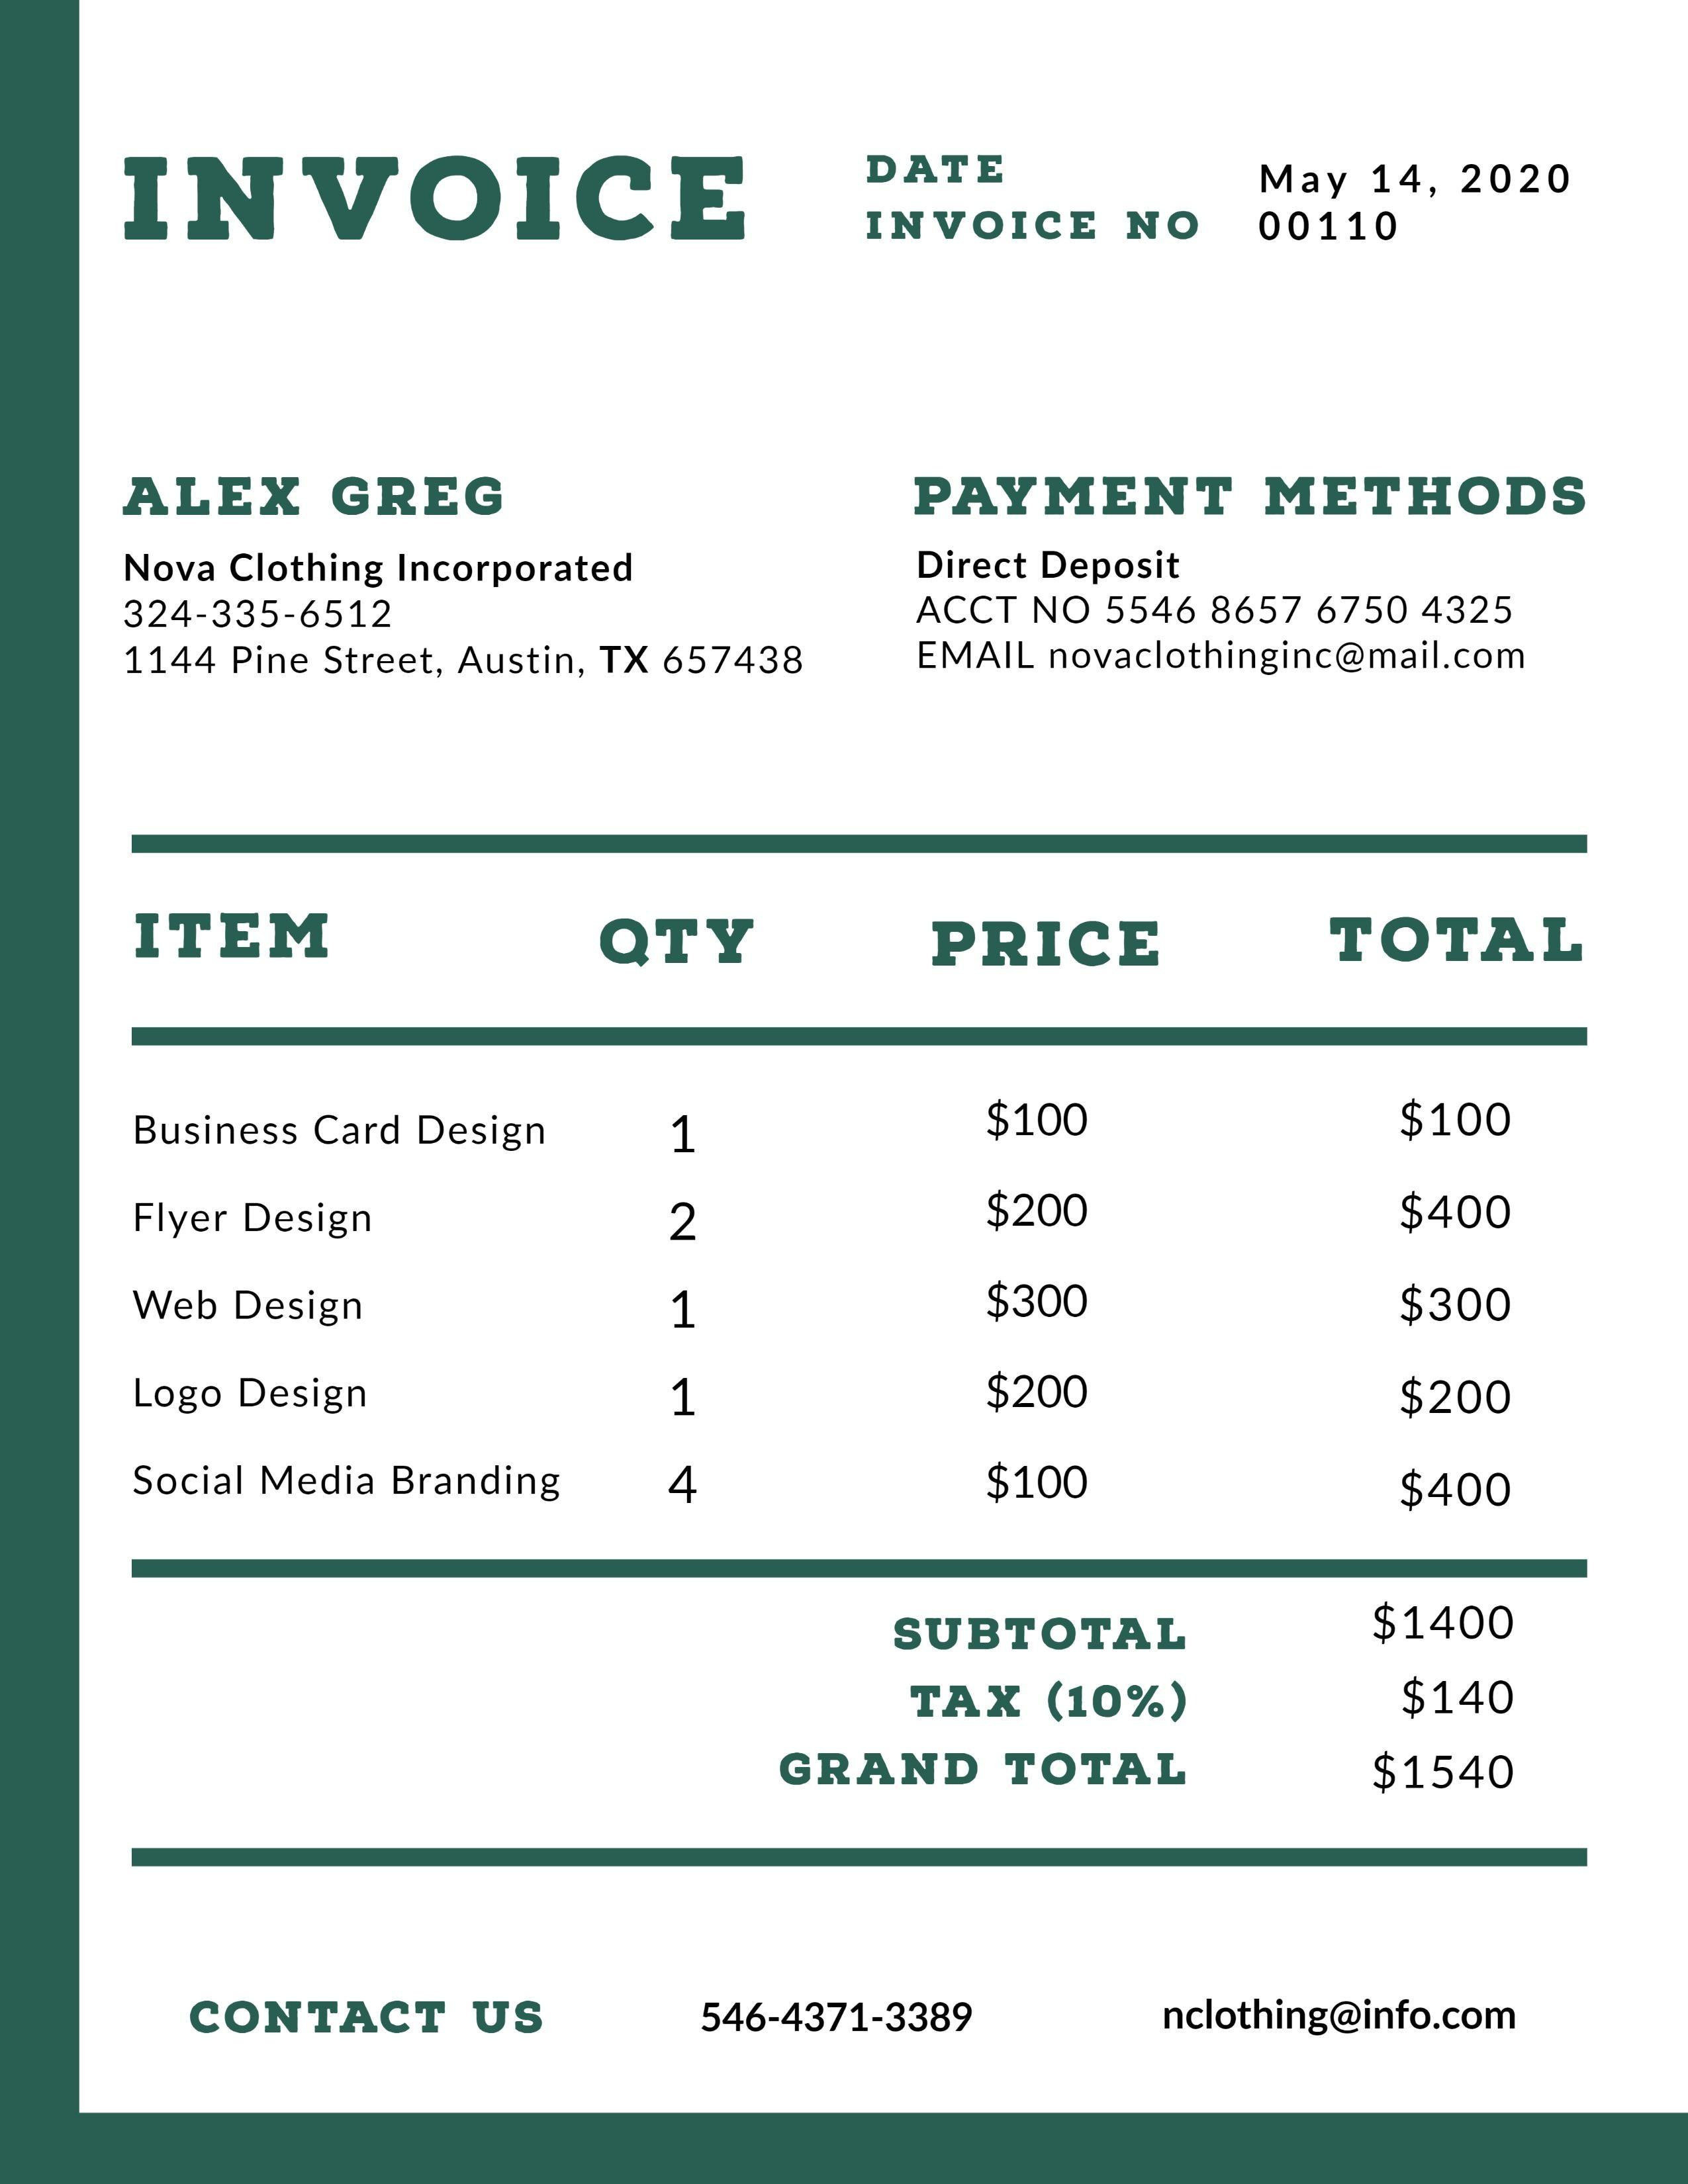ROI: (121, 904, 1608, 1546), (750, 1585, 1560, 1806), (108, 454, 814, 707), (897, 454, 1622, 691), (853, 138, 1628, 264)
